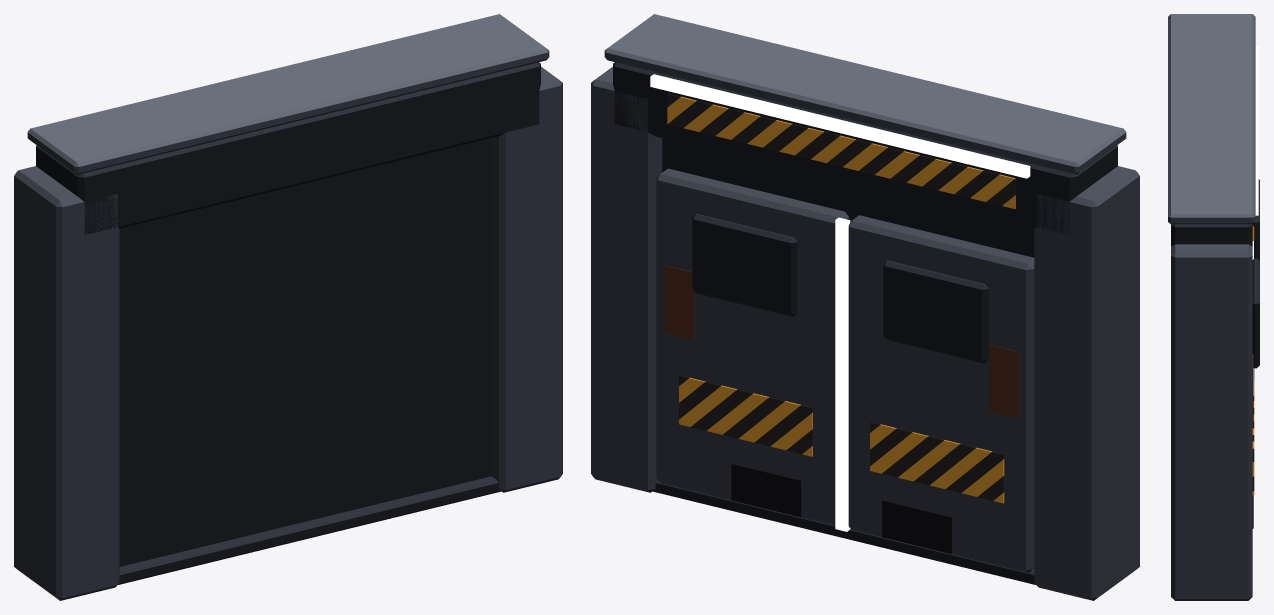
The model's file is BossGate.glb.
3 views of the same model, side by side, from view 1: azimuth 30°, elevation 25°; view 2: azimuth 150°, elevation 25°; view 3: azimuth 270°, elevation 25° (orthographic). The views are drawn at different scales.
Visible parts, largest first — view 1: Body; view 2: Body, Seam_Glow; view 3: Body, Seam_Glow.
Part boxes in pixels (bbox=[...]): Body: bbox=[14, 14, 562, 600]; Body: bbox=[591, 14, 1139, 600]; Seam_Glow: bbox=[650, 74, 1030, 531]; Body: bbox=[1168, 14, 1259, 600]; Seam_Glow: bbox=[1252, 46, 1258, 395].
Bounding box in the file's own units: 17.5 × 14.4 × 3.15.
